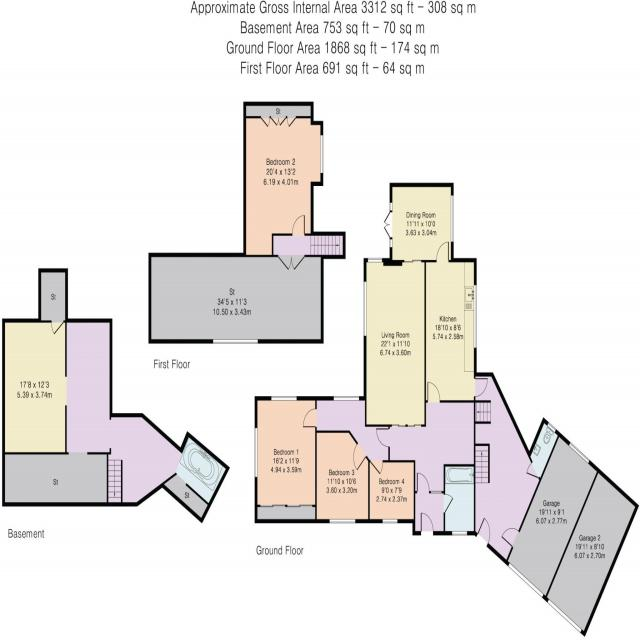DOOR: (476, 516, 491, 547), (353, 442, 367, 471), (420, 512, 434, 536), (375, 427, 390, 448), (416, 472, 430, 494), (427, 381, 440, 403), (292, 214, 305, 236), (474, 377, 488, 397), (303, 408, 317, 428), (436, 241, 449, 262), (443, 493, 454, 514), (370, 460, 383, 475)
ROOM: (243, 101, 324, 258), (363, 258, 426, 427), (424, 241, 488, 403), (254, 396, 317, 523), (383, 183, 454, 266), (315, 430, 370, 523), (368, 460, 415, 524)
WINDOW: (363, 281, 367, 337), (254, 427, 258, 478), (474, 284, 477, 348), (450, 194, 454, 242), (329, 518, 356, 524), (320, 135, 324, 174), (333, 396, 360, 401), (271, 396, 297, 401), (452, 530, 468, 536), (382, 518, 398, 524), (367, 257, 383, 263), (431, 490, 442, 494), (389, 202, 393, 211), (389, 239, 393, 248)
